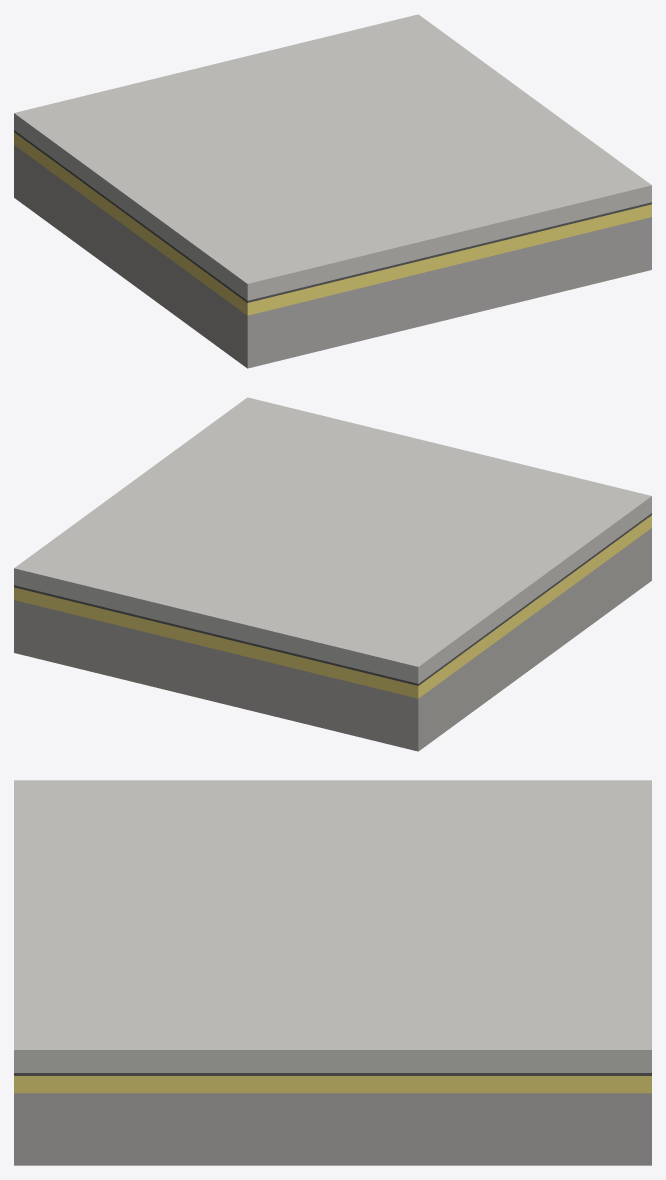
The model's file is floor-concrete-200.glb.
The picture shows the model from 3 angles, top to bottom: view 1: azimuth 30°, elevation 25°; view 2: azimuth 150°, elevation 25°; view 3: azimuth 270°, elevation 25°; orthographic projection. The views are drawn at different scales.
Visible parts, largest first — view 1: Screed, Structure.002, Insulation, Membrane; view 2: Screed, Structure.002, Insulation, Membrane; view 3: Screed, Structure.002, Insulation, Membrane.
Part boxes in pixels (left/top/right/bottom): Screed: left=14, top=14, right=651, bottom=300; Structure.002: left=14, top=145, right=651, bottom=368; Insulation: left=14, top=132, right=651, bottom=315; Membrane: left=14, top=130, right=651, bottom=302; Screed: left=14, top=397, right=651, bottom=683; Structure.002: left=14, top=528, right=651, bottom=751; Insulation: left=14, top=515, right=651, bottom=698; Membrane: left=14, top=513, right=651, bottom=685; Screed: left=14, top=780, right=651, bottom=1072; Structure.002: left=14, top=1093, right=651, bottom=1165; Insulation: left=14, top=1076, right=651, bottom=1093; Membrane: left=14, top=1073, right=651, bottom=1075.
Size of the model in its own units: 1 by 0.2 by 1.
